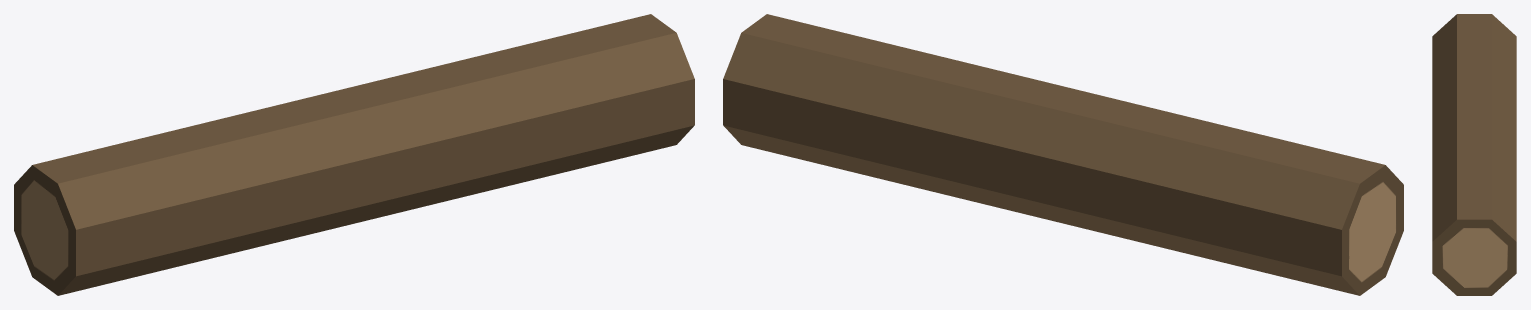
The model's file is log_02.FBX.
The picture shows the model from 3 angles, left to right: view 1: azimuth 30°, elevation 25°; view 2: azimuth 150°, elevation 25°; view 3: azimuth 270°, elevation 25°; orthographic projection. The views are drawn at different scales.
Parts seen in each view (by area): view 1: log_02; view 2: log_02; view 3: log_02.
Part boxes in pixels (<box>): log_02: <box>14,14,694,295</box>; log_02: <box>723,14,1403,295</box>; log_02: <box>1432,14,1516,295</box>.
Bounding box in the file's own units: 105 × 18.22 × 18.22.
1 material, 1 textured.
